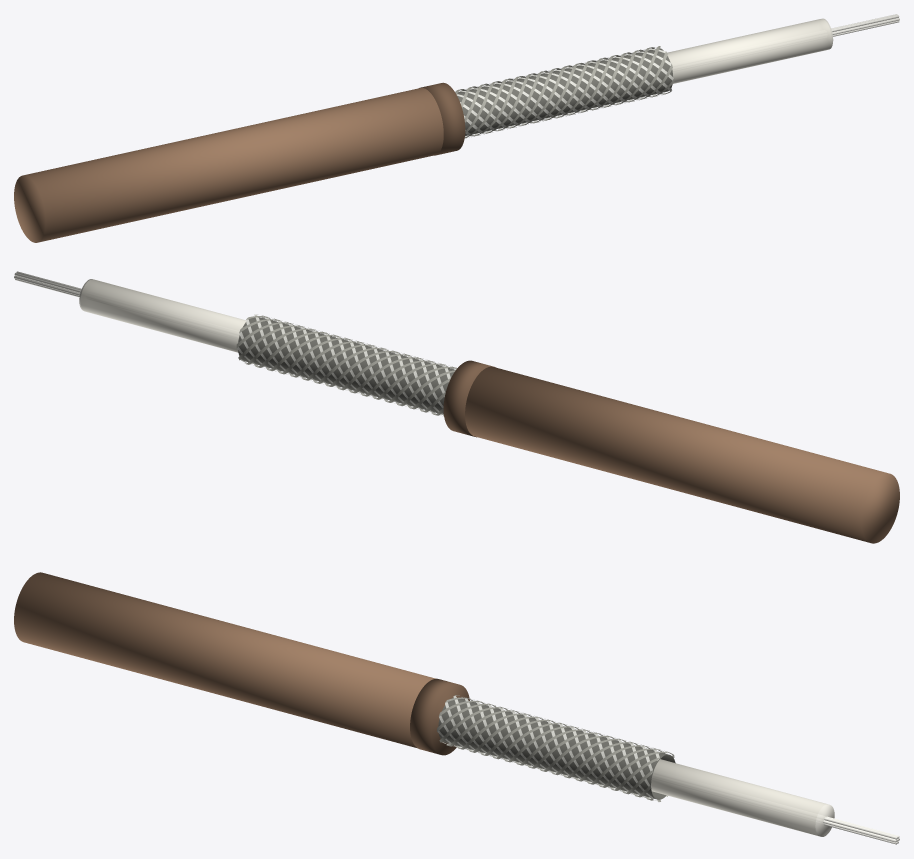
3 renders of one model, top to bottom at view 1: azimuth 30°, elevation 25°; view 2: azimuth 150°, elevation 25°; view 3: azimuth 330°, elevation 25°, orthographic. The views are drawn at different scales.
Parts seen in each view (by area): view 1: matte black pvc jacket body, braid dark diamond recess, gas injected foam dielectric, smooth dielectric skin, jacket cut lip, braid left hand woven carrier 02, braid left hand woven carrier 01, braid left hand woven carrier 03; view 2: matte black pvc jacket body, braid dark diamond recess, gas injected foam dielectric, smooth dielectric skin, jacket cut lip; view 3: matte black pvc jacket body, braid dark diamond recess, gas injected foam dielectric, smooth dielectric skin, jacket cut lip.
Boxes of the visible parts, bbox=[...] form: matte black pvc jacket body: bbox=[14, 88, 443, 242]; braid dark diamond recess: bbox=[457, 48, 672, 135]; gas injected foam dielectric: bbox=[667, 18, 833, 83]; smooth dielectric skin: bbox=[667, 19, 831, 83]; jacket cut lip: bbox=[419, 82, 465, 155]; braid left hand woven carrier 02: bbox=[468, 47, 654, 135]; braid left hand woven carrier 01: bbox=[465, 49, 643, 138]; braid left hand woven carrier 03: bbox=[485, 46, 660, 133]; matte black pvc jacket body: bbox=[465, 366, 899, 543]; braid dark diamond recess: bbox=[238, 317, 455, 413]; gas injected foam dielectric: bbox=[79, 279, 245, 352]; smooth dielectric skin: bbox=[81, 279, 245, 352]; jacket cut lip: bbox=[443, 360, 495, 437]; matte black pvc jacket body: bbox=[14, 572, 435, 747]; braid dark diamond recess: bbox=[438, 697, 675, 799]; gas injected foam dielectric: bbox=[651, 759, 834, 836]; smooth dielectric skin: bbox=[651, 759, 827, 836]; jacket cut lip: bbox=[410, 678, 469, 755].
Bounding box in the file's own units: 6.51 × 0.4621 × 0.5981.
